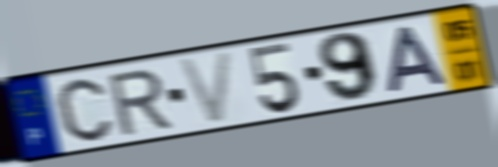5: (245, 39, 301, 116)
9: (318, 29, 383, 106)
A: (386, 22, 452, 96)
C: (54, 76, 115, 144)
R: (104, 66, 175, 139)
V: (174, 48, 236, 128)
